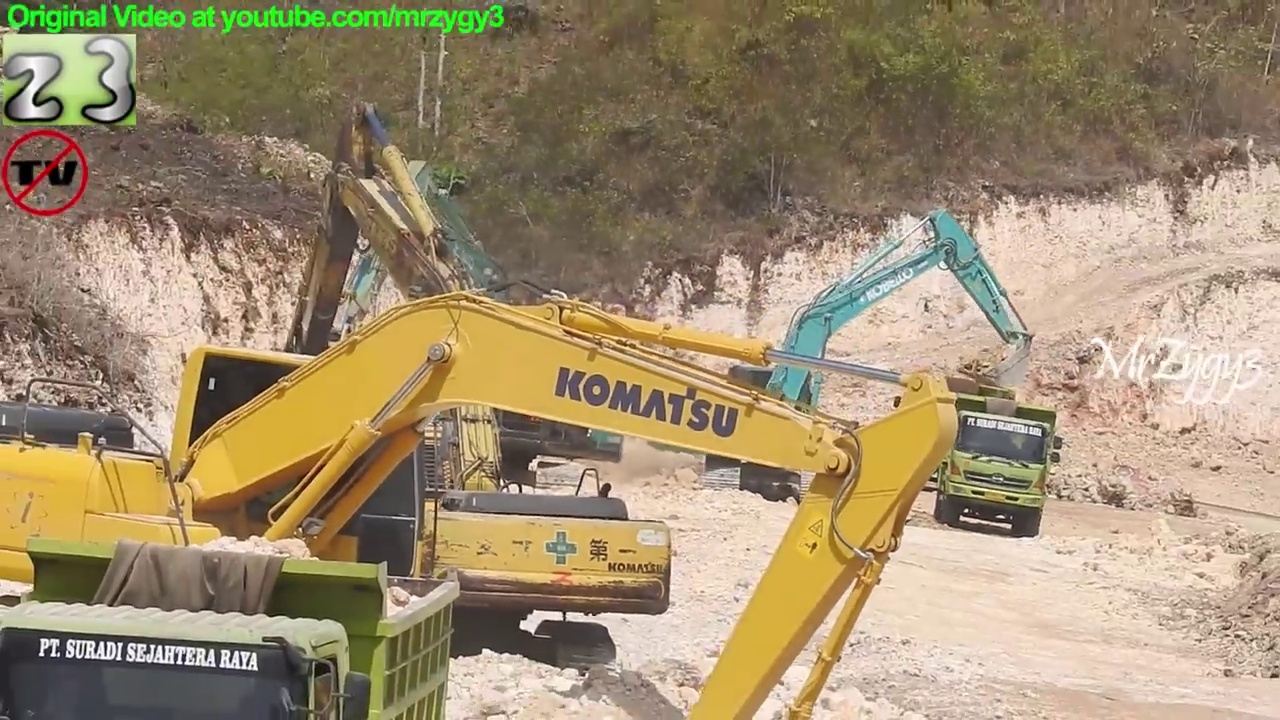excavator: (3, 279, 966, 720), (258, 99, 681, 688), (686, 200, 1040, 509), (316, 150, 629, 499)
truck: (3, 533, 465, 720), (931, 388, 1067, 541)
